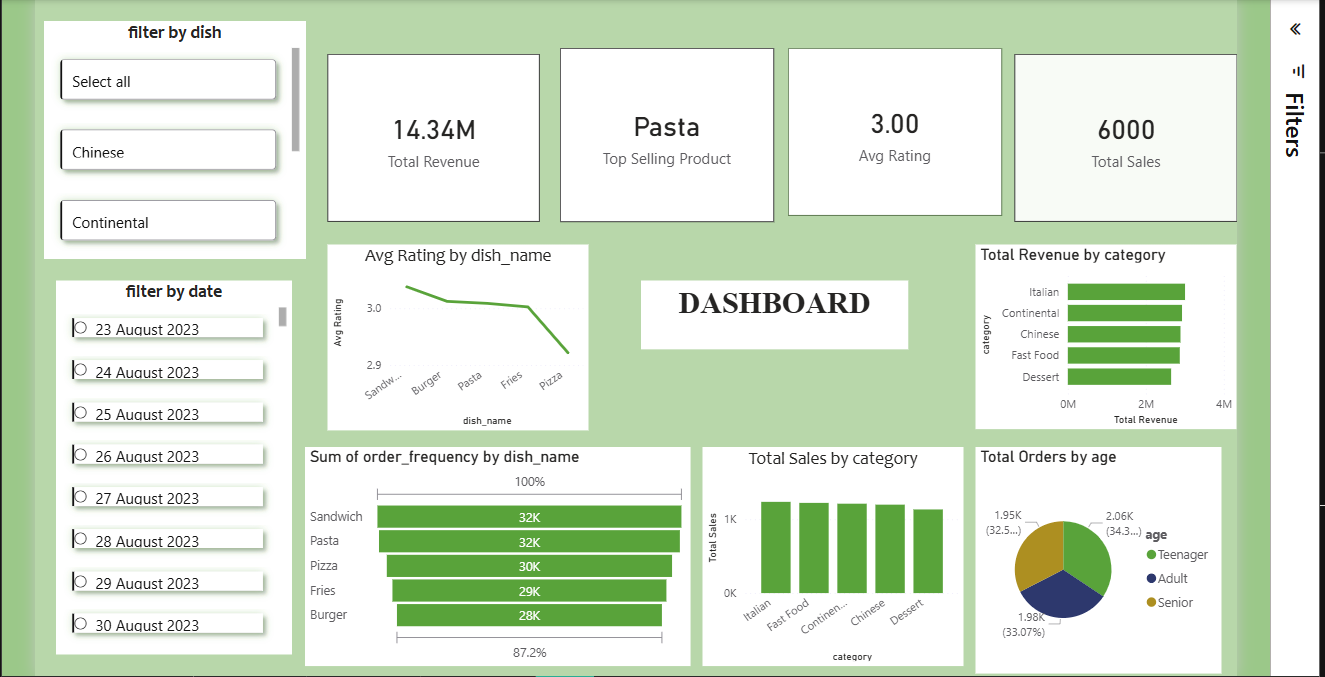

The page's visual inventory and layout, read from the dashboard file:
{"tool":"powerbi","page":{"name":"Page 1","canvas":[1280,720],"ordinal":0},"visuals":[{"type":"card","fields":{"Values":["Foodpanda Analysis Dataset.Total Sales"]},"box":[1042.6,56.9,237.5,178.9],"z":0},{"type":"card","fields":{"Values":["Foodpanda Analysis Dataset.Total Revenue"]},"box":[312.3,56.9,226.1,178.9],"z":1000},{"type":"card","fields":{"Values":["Foodpanda Analysis Dataset.Avg Rating"]},"box":[801.9,50.4,227.7,178.9],"z":2000},{"type":"card","fields":{"Values":["Foodpanda Analysis Dataset.Top Selling Product"]},"box":[559.5,50.4,227.7,185.4],"z":3000},{"type":"clusteredColumnChart","fields":{"Category":["Foodpanda Analysis Dataset.category"],"Y":["Foodpanda Analysis Dataset.Total Sales"]},"box":[711,476.1,278,233.3],"z":4000},{"type":"clusteredBarChart","fields":{"Category":["Foodpanda Analysis Dataset.category"],"Y":["Foodpanda Analysis Dataset.Total Revenue"]},"box":[1002,260.2,278.1,196.8],"z":5000},{"type":"lineChart","fields":{"Category":["Foodpanda Analysis Dataset.dish_name"],"Y":["Foodpanda Analysis Dataset.Avg Rating"]},"box":[311.5,260.4,278,198.1],"z":6000},{"type":"advancedSlicerVisual","title":"filter by dish","fields":{"Values":["Foodpanda Analysis Dataset.category"]},"box":[9.6,22.4,278,252.4],"z":7000},{"type":"listSlicer","title":"filter by date","fields":{"Values":["Foodpanda Analysis Dataset.order_date"]},"box":[22.4,298.8,250.8,397.8],"z":8000},{"type":"funnel","fields":{"Category":["Foodpanda Analysis Dataset.dish_name"],"Y":["Sum(Foodpanda Analysis Dataset.order_frequency)"]},"box":[287.6,476.1,410.6,233.3],"z":9000},{"type":"pieChart","fields":{"Category":["Foodpanda Analysis Dataset.age"],"Y":["Foodpanda Analysis Dataset.Total Orders"]},"box":[1001.7,476.1,262,241.2],"z":10000},{"type":"textbox","box":[645.5,298.8,284.4,73.5],"z":11000}]}

Visuals, with their boxes on the page's 1280x720 design canvas (x1, y1, x2, y2). These are canvas units, not pixel positions in the 1325x677 screenshot, which may show the page scaled, cropped or inside an application window:
card - Foodpanda Analysis Dataset.Total Sales: Rect(1043, 57, 1280, 236)
card - Foodpanda Analysis Dataset.Total Revenue: Rect(312, 57, 538, 236)
card - Foodpanda Analysis Dataset.Avg Rating: Rect(802, 50, 1030, 229)
card - Foodpanda Analysis Dataset.Top Selling Product: Rect(560, 50, 787, 236)
clusteredColumnChart - Foodpanda Analysis Dataset.category x Foodpanda Analysis Dataset.Total Sales: Rect(711, 476, 989, 709)
clusteredBarChart - Foodpanda Analysis Dataset.category x Foodpanda Analysis Dataset.Total Revenue: Rect(1002, 260, 1280, 457)
lineChart - Foodpanda Analysis Dataset.dish_name x Foodpanda Analysis Dataset.Avg Rating: Rect(312, 260, 590, 458)
"filter by dish" advancedSlicerVisual: Rect(10, 22, 288, 275)
"filter by date" listSlicer: Rect(22, 299, 273, 697)
funnel - Foodpanda Analysis Dataset.dish_name x Sum(Foodpanda Analysis Dataset.order_frequency): Rect(288, 476, 698, 709)
pieChart - Foodpanda Analysis Dataset.age x Foodpanda Analysis Dataset.Total Orders: Rect(1002, 476, 1264, 717)
textbox: Rect(646, 299, 930, 372)
